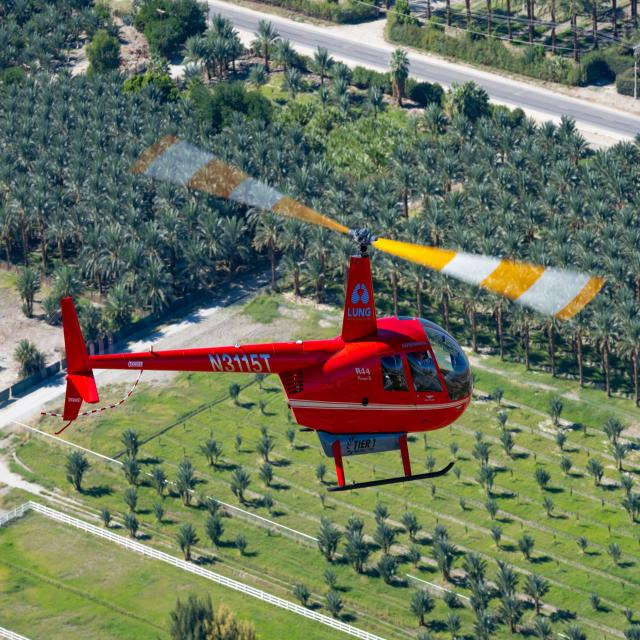CIV_HELO: (56, 225, 476, 496)
